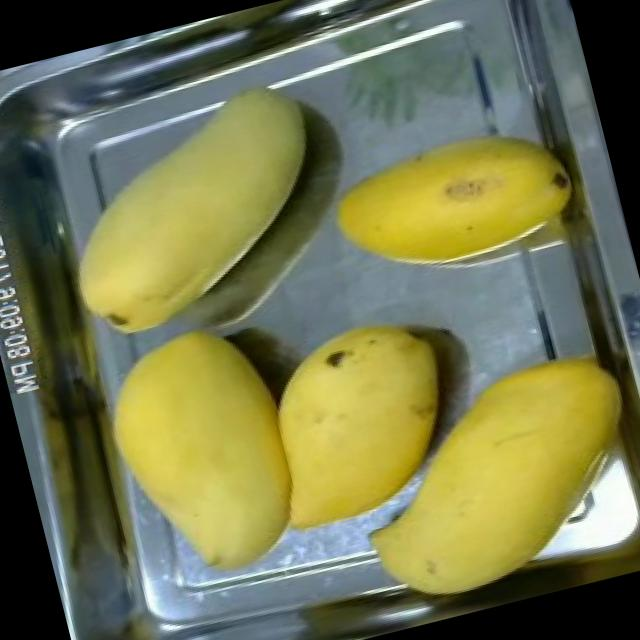fruit: (27, 62, 360, 354), (326, 332, 640, 622), (74, 300, 334, 608), (234, 294, 486, 559), (310, 106, 591, 298)
